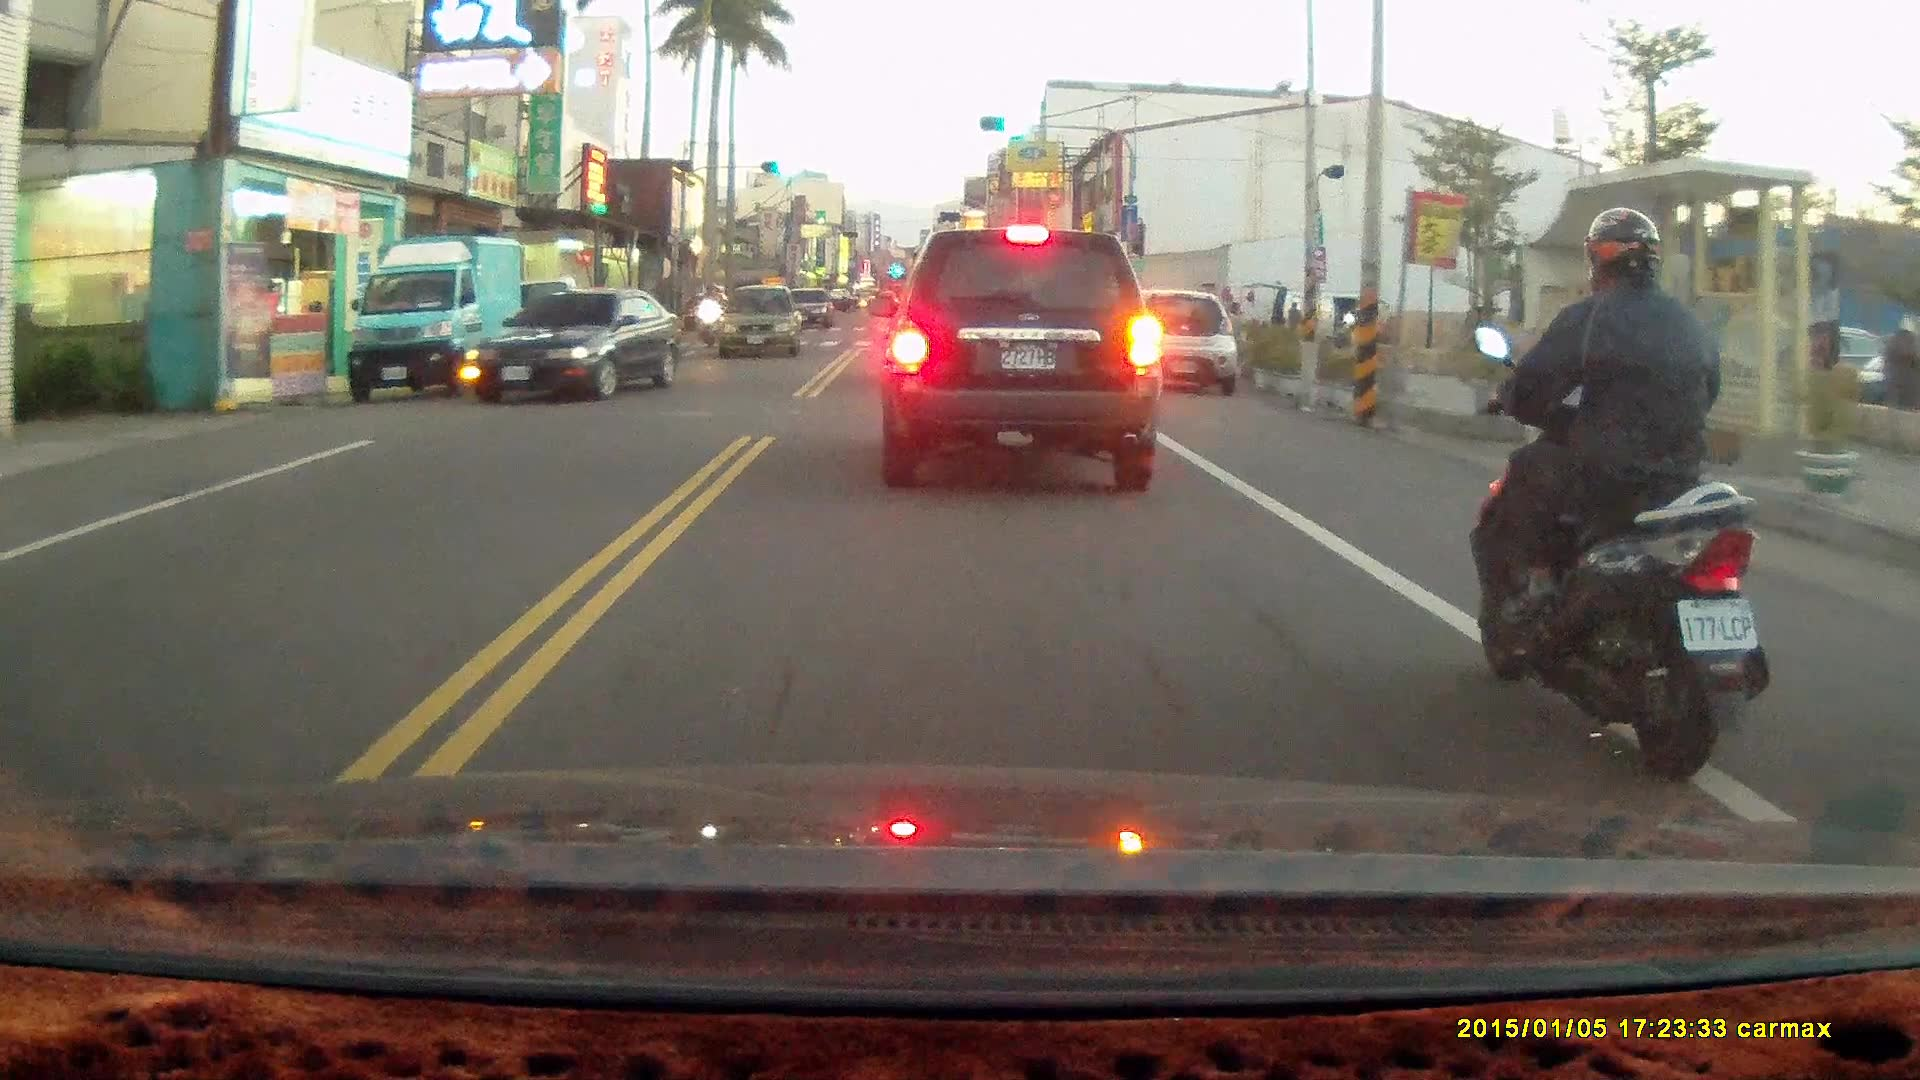rider: (1464, 204, 1767, 781), (694, 282, 726, 351)
vehicle: (876, 229, 1162, 499), (342, 232, 527, 407), (466, 290, 685, 404), (1128, 287, 1242, 400), (713, 286, 807, 364)
